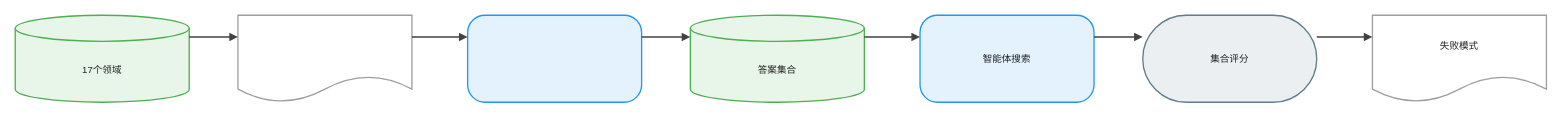
Some shapes in this 1563 by 118 pixel diagram are drawn without their labels. The box of each missing label's shape, as (x1, y1, x2, y2) in pixels:
900个问题: (237, 14, 412, 102)
因果链: (467, 14, 642, 102)
